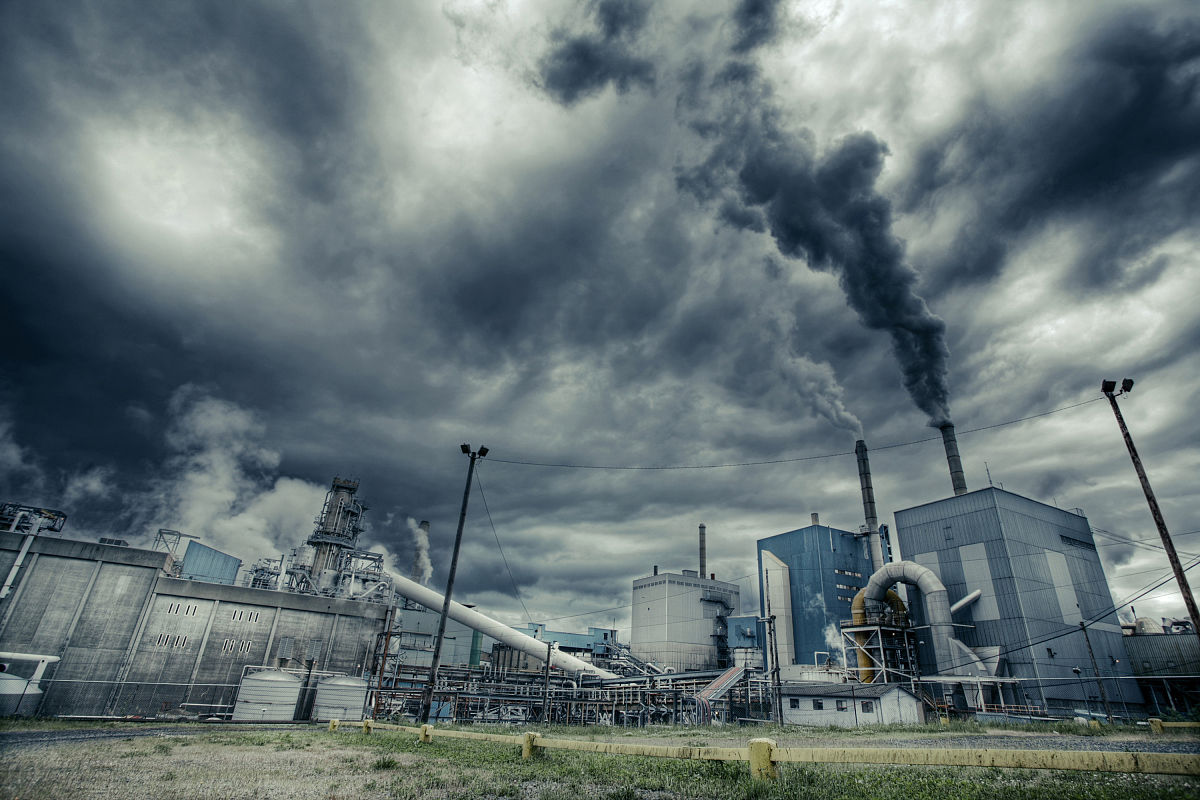dust: (735, 127, 978, 443), (744, 328, 883, 462)
